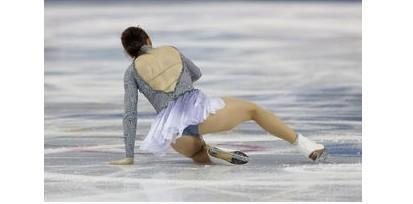Fall-Detected: (100, 18, 324, 165)
